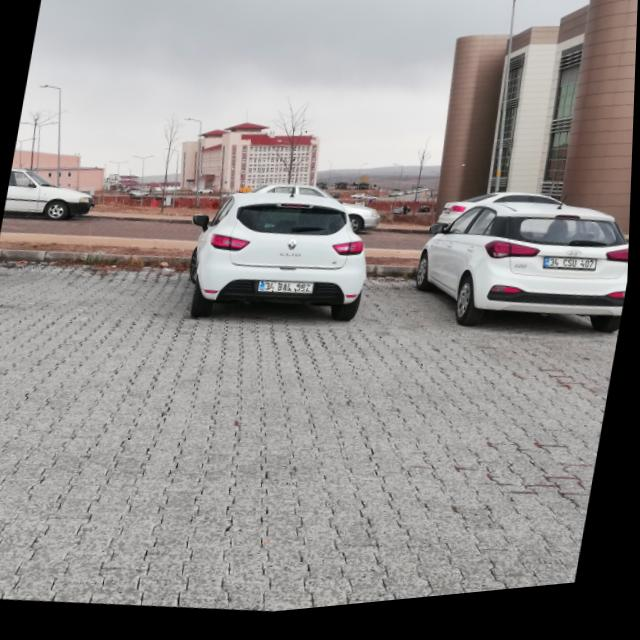license_plate: (261, 282, 316, 304), (545, 265, 599, 284)
